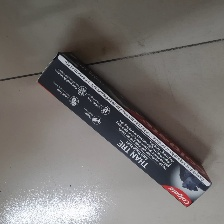Colgate Than: (36, 51, 212, 210)
